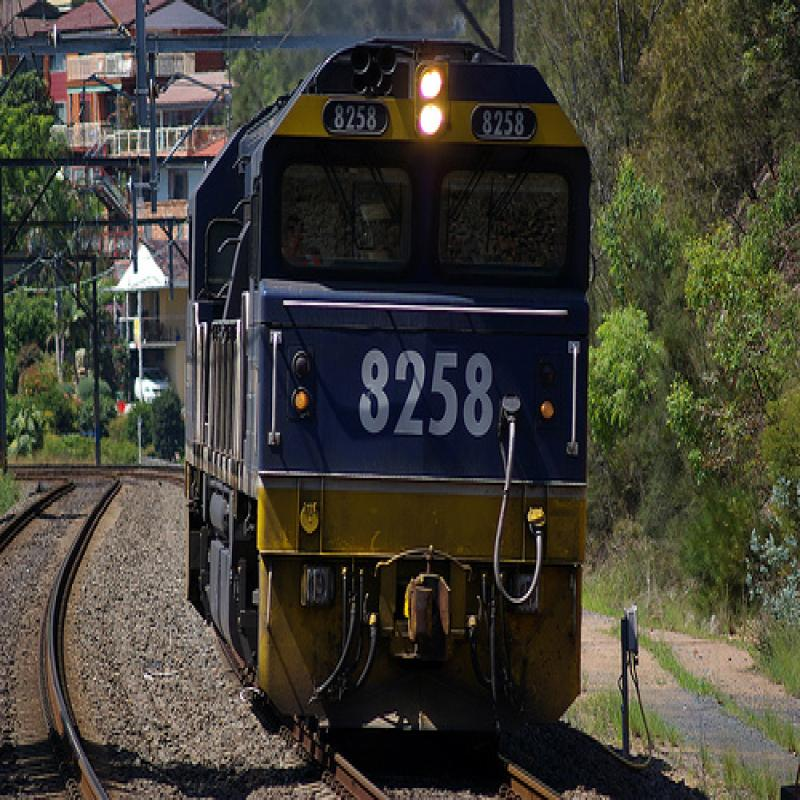train: (187, 40, 592, 744)
